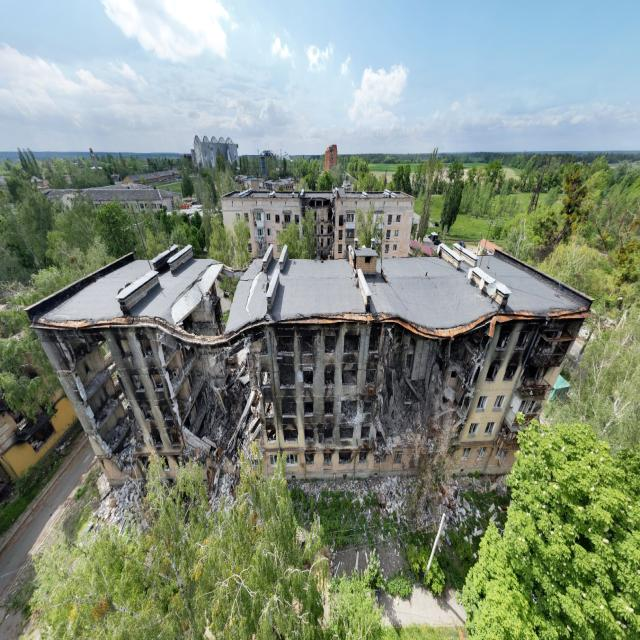building: (34, 315, 588, 486)
damage: (34, 317, 498, 474), (485, 317, 586, 451)
damaged_roof: (157, 257, 272, 325), (374, 275, 501, 321)
other: (108, 300, 640, 640), (0, 329, 109, 640), (350, 412, 540, 478), (145, 435, 206, 484)
roof: (26, 237, 595, 329)
